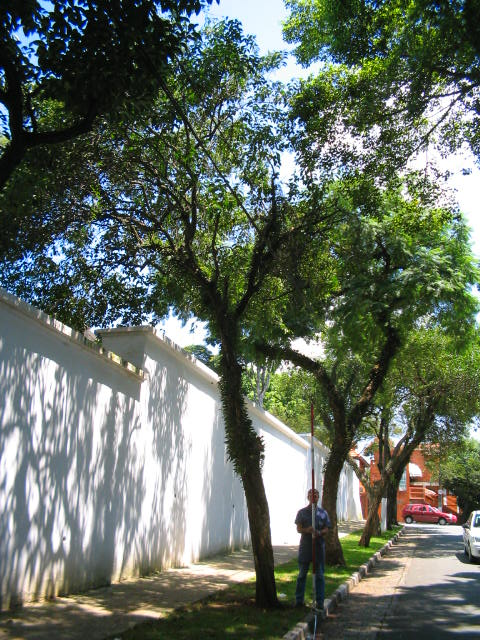crown: (8, 19, 432, 310)
stem: (207, 330, 287, 606)
stick: (301, 405, 324, 609)
tree: (4, 19, 433, 608)
